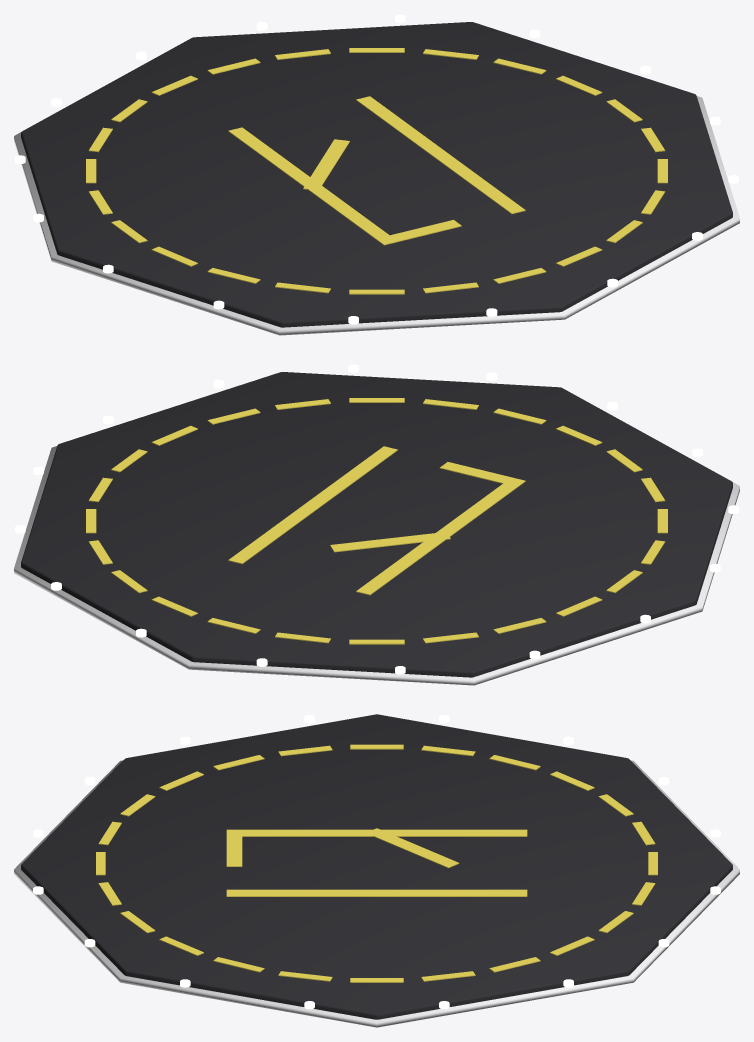
Rendered from SM_Helipad.fbx.
3 views of the same model, one above another, from view 1: azimuth 30°, elevation 25°; view 2: azimuth 150°, elevation 25°; view 3: azimuth 270°, elevation 25° (orthographic). The views are drawn at different scales.
Visible parts, largest first — view 1: SM_Helipad; view 2: SM_Helipad; view 3: SM_Helipad.
Part boxes in pixels (x1=…): SM_Helipad: x1=14, y1=14, x2=739, y2=335; SM_Helipad: x1=14, y1=364, x2=739, y2=685; SM_Helipad: x1=14, y1=714, x2=739, y2=1027.
Bounding box in the file's own units: 16.3 × 16.3 × 0.35.
